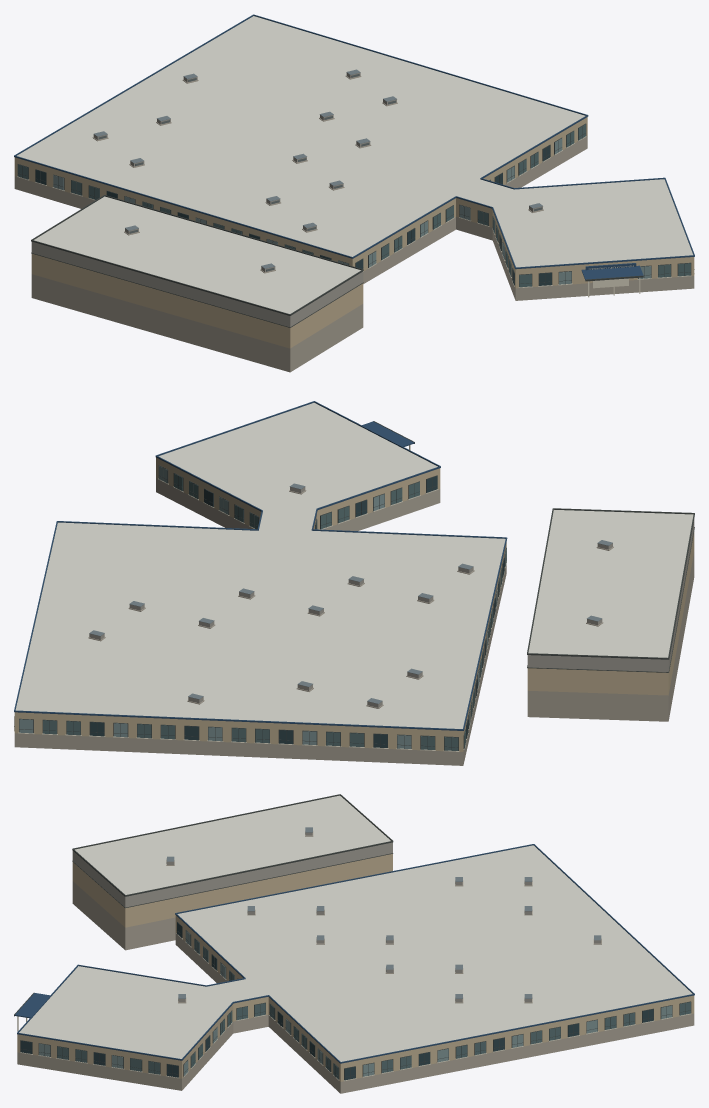
The model's file is oxford-early-childhood.glb.
3 renders of one model, top to bottom at view 1: azimuth 30°, elevation 25°; view 2: azimuth 150°, elevation 25°; view 3: azimuth 270°, elevation 25°, orthographic. The views are drawn at different scales.
Visible parts, largest first — view 1: 598597694 | Roof, 598597694 | Shell and foundation, 598597694 | Facades; view 2: 598597694 | Roof, 598597694 | Facades, 598597694 | Shell and foundation; view 3: 598597694 | Roof, 598597694 | Shell and foundation, 598597694 | Facades.
Boxes of the visible parts, x1,y1,x2,y2 form: 598597694 | Roof: [14, 16, 694, 372]; 598597694 | Shell and foundation: [14, 117, 694, 348]; 598597694 | Facades: [14, 14, 694, 327]; 598597694 | Roof: [14, 402, 694, 765]; 598597694 | Facades: [14, 401, 694, 751]; 598597694 | Shell and foundation: [14, 457, 694, 751]; 598597694 | Roof: [17, 795, 694, 1093]; 598597694 | Shell and foundation: [17, 854, 694, 1081]; 598597694 | Facades: [14, 794, 694, 1081].
Bounding box in the file's own units: 106 × 11.16 × 118.
